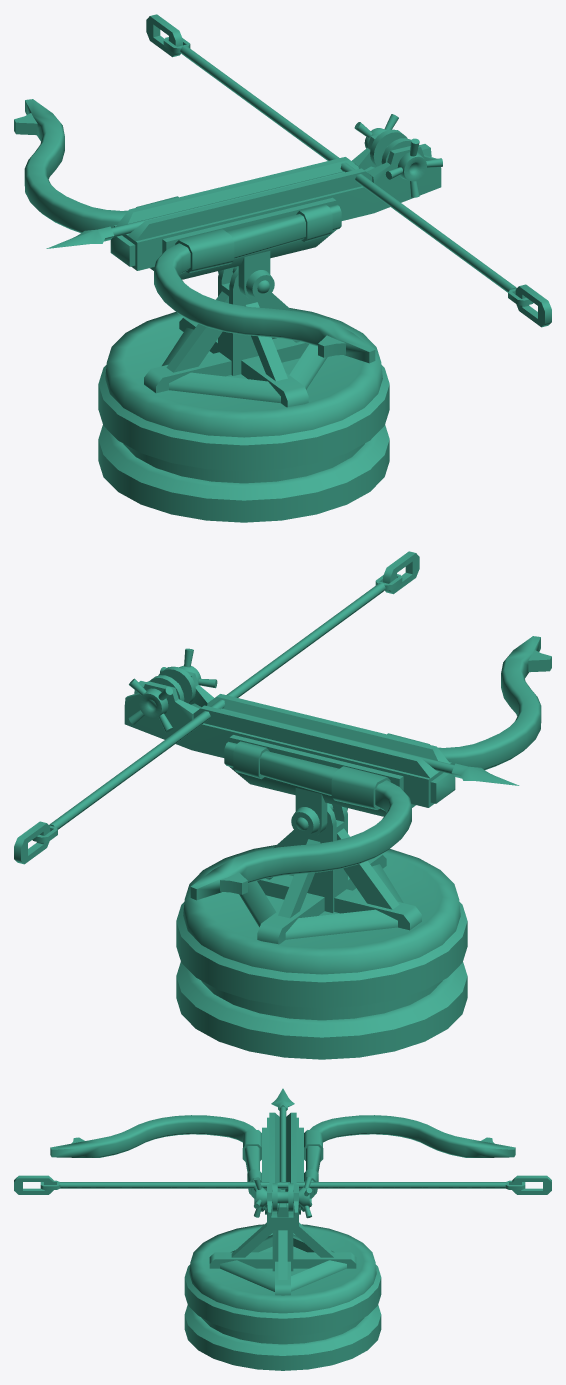
Rendered from SM_Cross_Bow_V2.fbx.
3 views of the same model, one above another, from view 1: azimuth 30°, elevation 25°; view 2: azimuth 150°, elevation 25°; view 3: azimuth 270°, elevation 25° (orthographic). The views are drawn at different scales.
Visible parts, largest first — view 1: SM_Cross_Bow, SM_Cross_Bow_Base_02, SM_Cross_Bow_Base_01, pCube1512, SM_Cross_Bow_Crank, SM_Cross_Bow_Arrow; view 2: SM_Cross_Bow, SM_Cross_Bow_Base_02, SM_Cross_Bow_Base_01, pCube1512, SM_Cross_Bow_Crank, SM_Cross_Bow_Arrow; view 3: SM_Cross_Bow_Base_02, SM_Cross_Bow, SM_Cross_Bow_Base_01, pCube1512, SM_Cross_Bow_Crank, SM_Cross_Bow_Arrow.
Boxes of the visible parts, x1=… form: SM_Cross_Bow: x1=14, y1=99, x2=441, y2=363; SM_Cross_Bow_Base_02: x1=105, y1=266, x2=382, y2=437; SM_Cross_Bow_Base_01: x1=98, y1=365, x2=389, y2=522; pCube1512: x1=146, y1=14, x2=551, y2=327; SM_Cross_Bow_Crank: x1=354, y1=114, x2=442, y2=197; SM_Cross_Bow_Arrow: x1=46, y1=171, x2=344, y2=248; SM_Cross_Bow: x1=124, y1=636, x2=551, y2=900; SM_Cross_Bow_Base_02: x1=183, y1=803, x2=460, y2=974; SM_Cross_Bow_Base_01: x1=176, y1=902, x2=467, y2=1059; pCube1512: x1=14, y1=551, x2=419, y2=864; SM_Cross_Bow_Crank: x1=128, y1=648, x2=217, y2=732; SM_Cross_Bow_Arrow: x1=221, y1=708, x2=519, y2=785; SM_Cross_Bow_Base_02: x1=189, y1=1198, x2=376, y2=1313; SM_Cross_Bow: x1=50, y1=1112, x2=515, y2=1230; SM_Cross_Bow_Base_01: x1=184, y1=1265, x2=381, y2=1370; pCube1512: x1=14, y1=1175, x2=551, y2=1194; SM_Cross_Bow_Crank: x1=254, y1=1177, x2=312, y2=1218; SM_Cross_Bow_Arrow: x1=271, y1=1088, x2=294, y2=1189.
Size of the model in its own units: 308 by 228 by 553.
